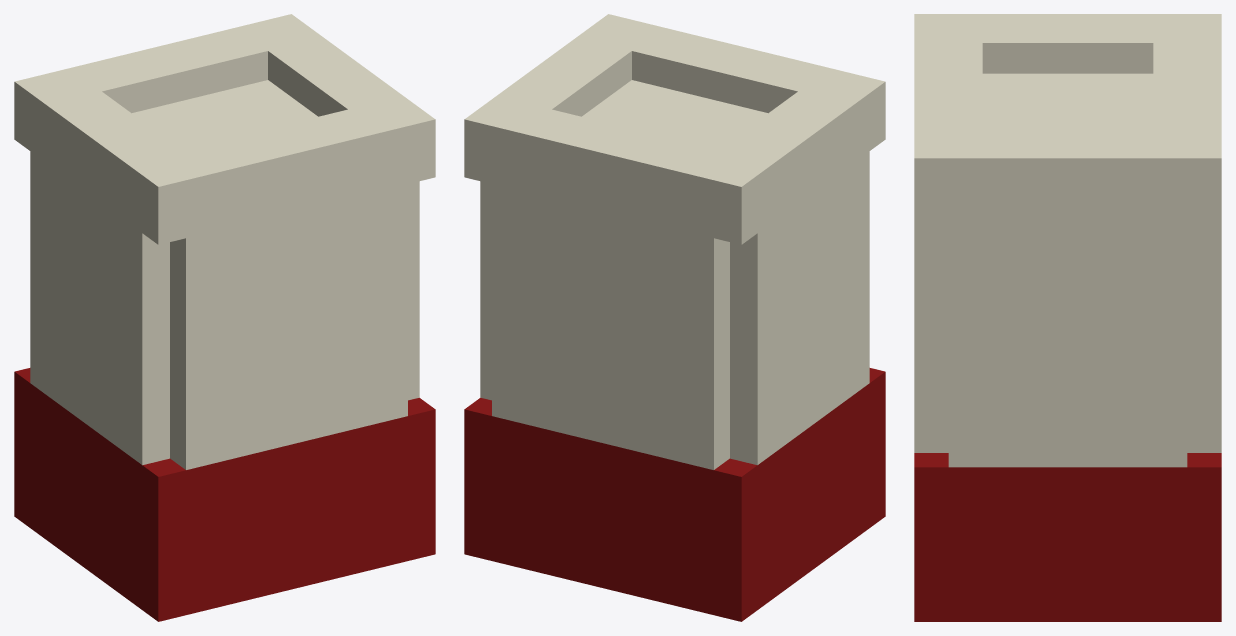
The model's file is character.vox-5-player-1-head.obj.
3 renders of one model, left to right at view 1: azimuth 30°, elevation 25°; view 2: azimuth 150°, elevation 25°; view 3: azimuth 270°, elevation 25°, orthographic. The views are drawn at different scales.
Visible parts, largest first — view 1: player-1-head; view 2: player-1-head; view 3: player-1-head.
Part boxes in pixels (x1,y1,x2,y2): player-1-head: (14,14,435,621); player-1-head: (464,14,885,621); player-1-head: (914,14,1221,621).
Size of the model in its own units: 1 by 1.5 by 0.9.
1 material, 1 textured.
